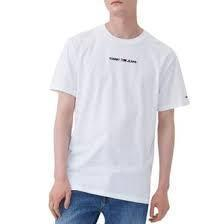Tshirt: (48, 22, 192, 204)
